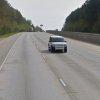Car: (43, 31, 77, 63)
